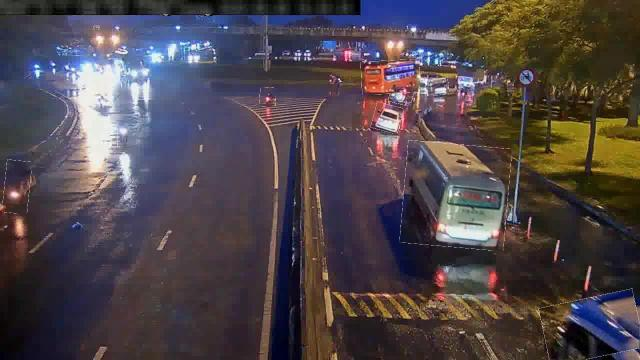Bike: (3, 160, 31, 214), (118, 116, 132, 150), (260, 87, 276, 107)
Bus: (402, 143, 510, 249), (541, 293, 639, 359), (362, 60, 421, 94)
Car: (372, 103, 402, 132), (389, 86, 413, 106), (426, 78, 448, 96)
